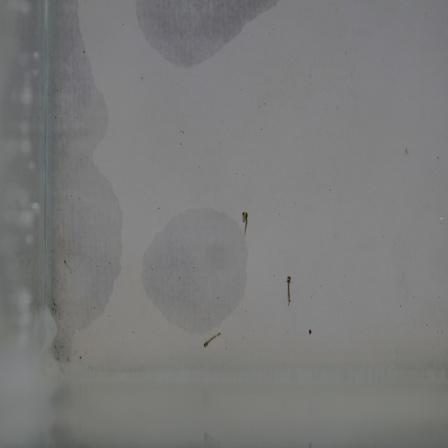Jentik-Nyamuk: (199, 326, 226, 353), (283, 272, 297, 311), (239, 206, 254, 239)
